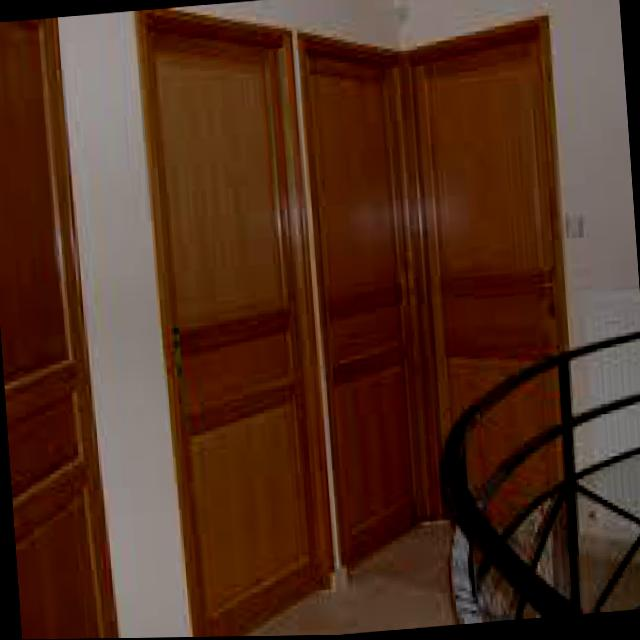close: (124, 0, 337, 638), (408, 15, 598, 564), (288, 0, 453, 599)
